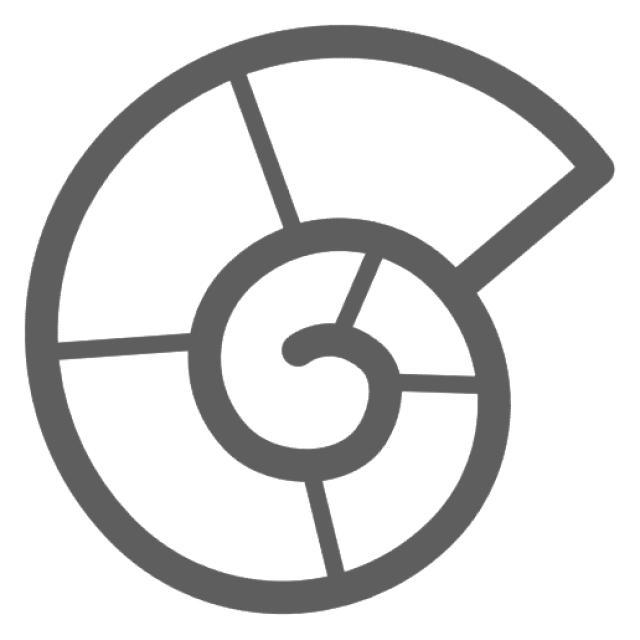fossil: (17, 17, 627, 627)
